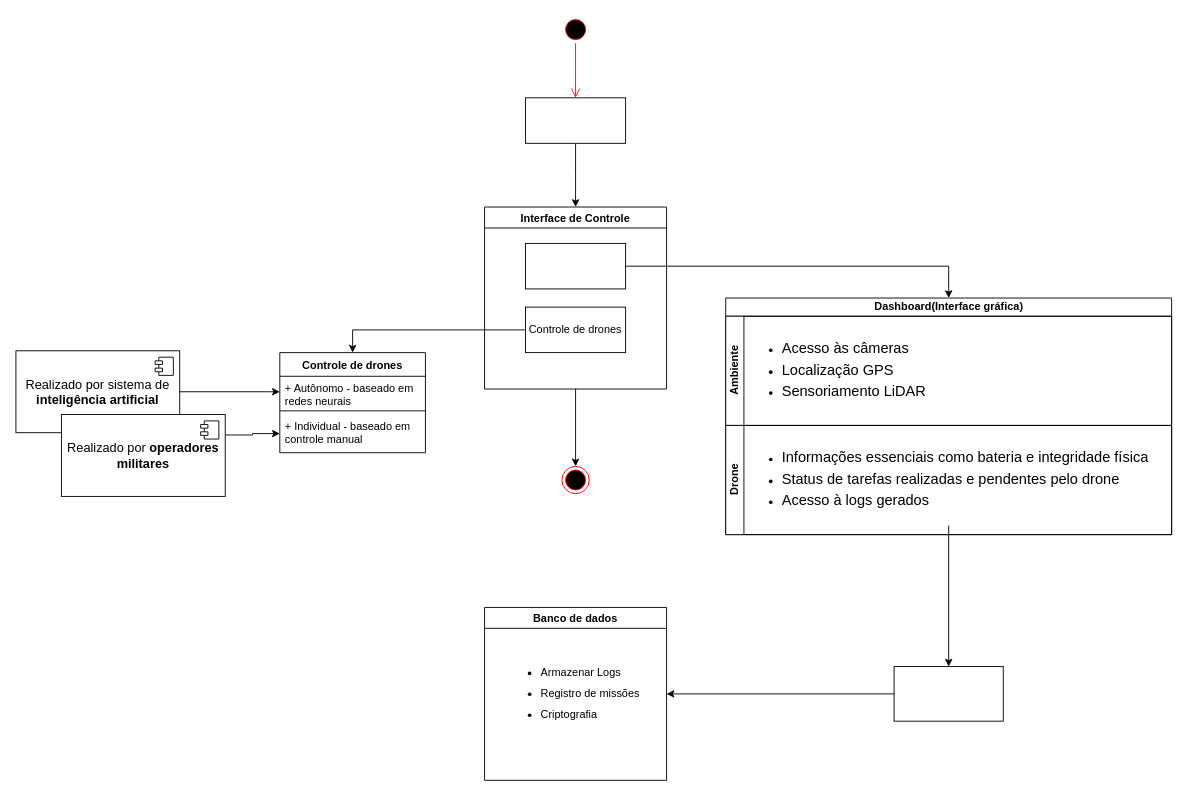
Some shapes in this 1188 by 796 pixel diagram are drawn without their labels. Each missing label, with the centre of its shape:
Acesso ao Dashboard: the point at 575,266
Autentificação: the point at 575,120
Gerar Logs: the point at 948,693
